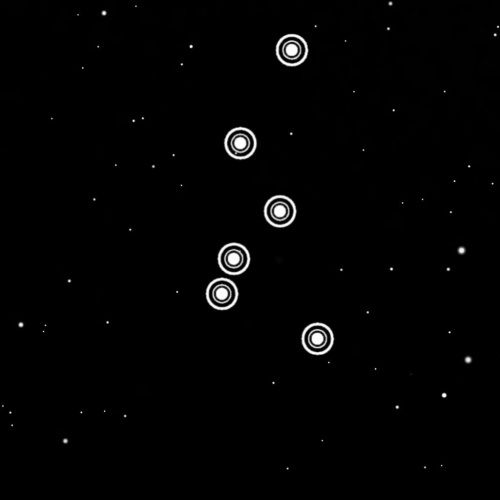cassiopeia: (192, 26, 340, 366)
